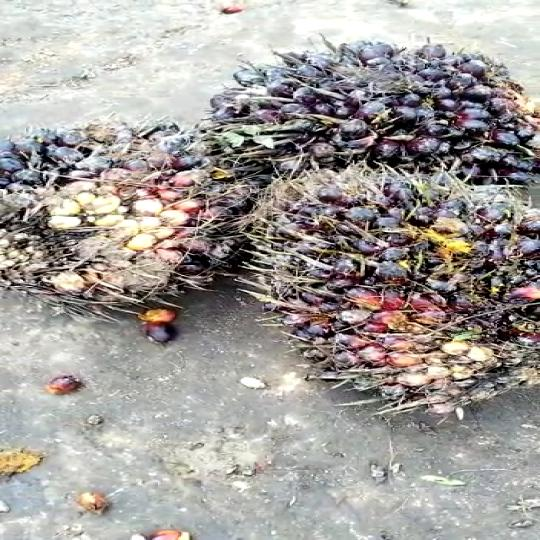kurang masak: (225, 164, 535, 412), (0, 126, 277, 340), (197, 36, 540, 196)
